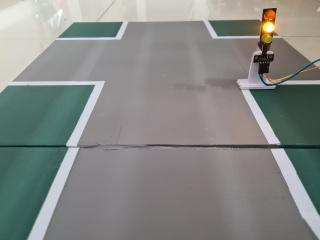yellow: (252, 4, 283, 52)
